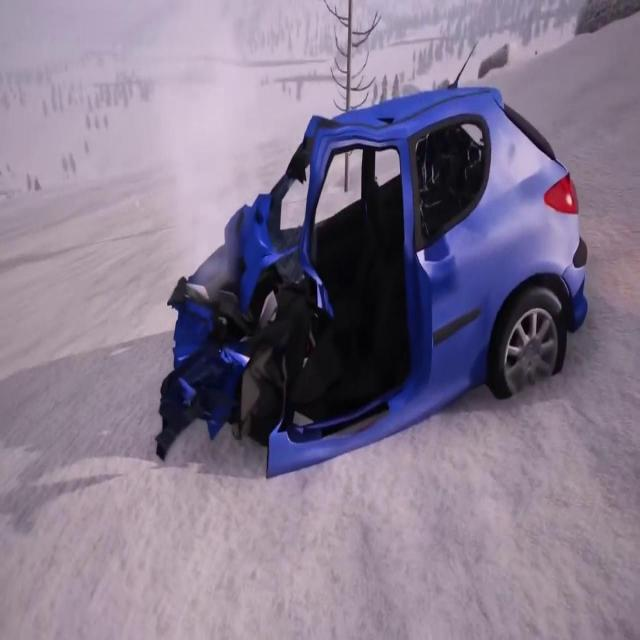accident: (150, 77, 594, 487)
